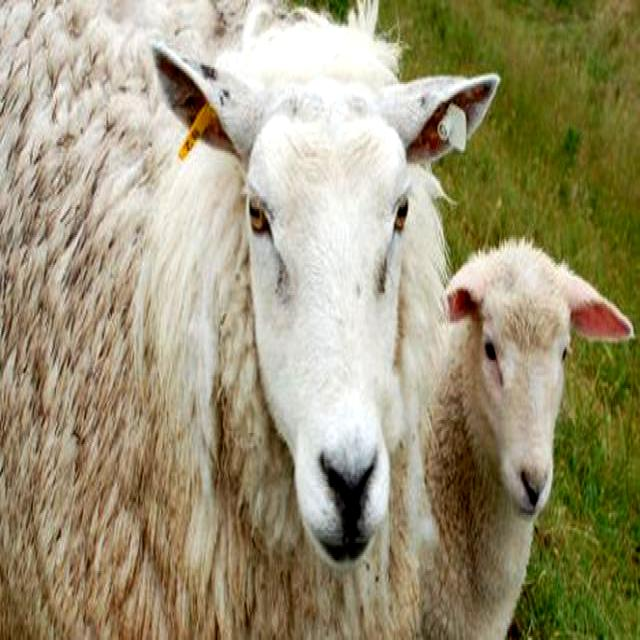sheep: (2, 0, 497, 640), (423, 246, 631, 636)
